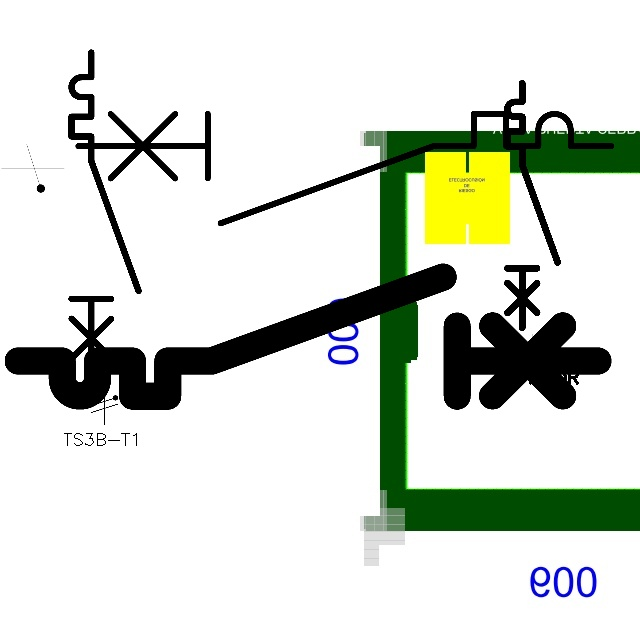interruptor_termomagnetico: (3, 262, 613, 411), (64, 100, 625, 237), (63, 44, 146, 386), (501, 77, 564, 334)
